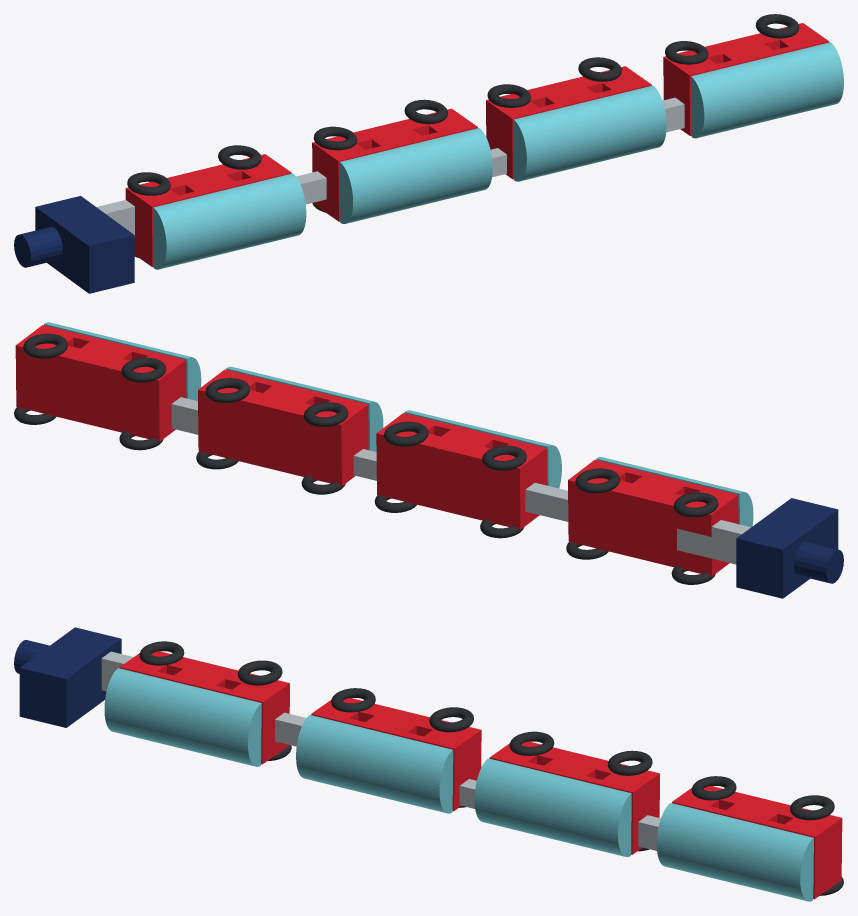
File: tinker.obj
3 renders of one model, top to bottom at view 1: azimuth 30°, elevation 25°; view 2: azimuth 150°, elevation 25°; view 3: azimuth 330°, elevation 25°, orthographic. The views are drawn at different scales.
Parts seen in each view (by area): view 1: group_0_7720667, group_0_15277357, group_0_1650274, group_0_2829873, group_0_12568524; view 2: group_0_15277357, group_0_2829873, group_0_1650274, group_0_7720667, group_0_12568524; view 3: group_0_7720667, group_0_15277357, group_0_1650274, group_0_2829873, group_0_12568524.
Boxes of the visible parts, left/top/right/bottom form: group_0_7720667: left=153, top=42, right=843, bottom=269; group_0_15277357: left=125, top=23, right=829, bottom=267; group_0_1650274: left=14, top=196, right=134, bottom=293; group_0_2829873: left=127, top=14, right=799, bottom=257; group_0_12568524: left=96, top=97, right=684, bottom=237; group_0_15277357: left=15, top=325, right=738, bottom=576; group_0_2829873: left=14, top=333, right=718, bottom=584; group_0_1650274: left=736, top=498, right=843, bottom=598; group_0_7720667: left=44, top=322, right=753, bottom=527; group_0_12568524: left=171, top=397, right=750, bottom=564; group_0_7720667: left=104, top=668, right=813, bottom=901; group_0_15277357: left=119, top=651, right=842, bottom=899; group_0_1650274: left=14, top=627, right=121, bottom=727; group_0_2829873: left=139, top=641, right=843, bottom=895; group_0_12568524: left=101, top=651, right=660, bottom=850.
Bounding box in the file's own units: 348 × 32.5 × 41.
